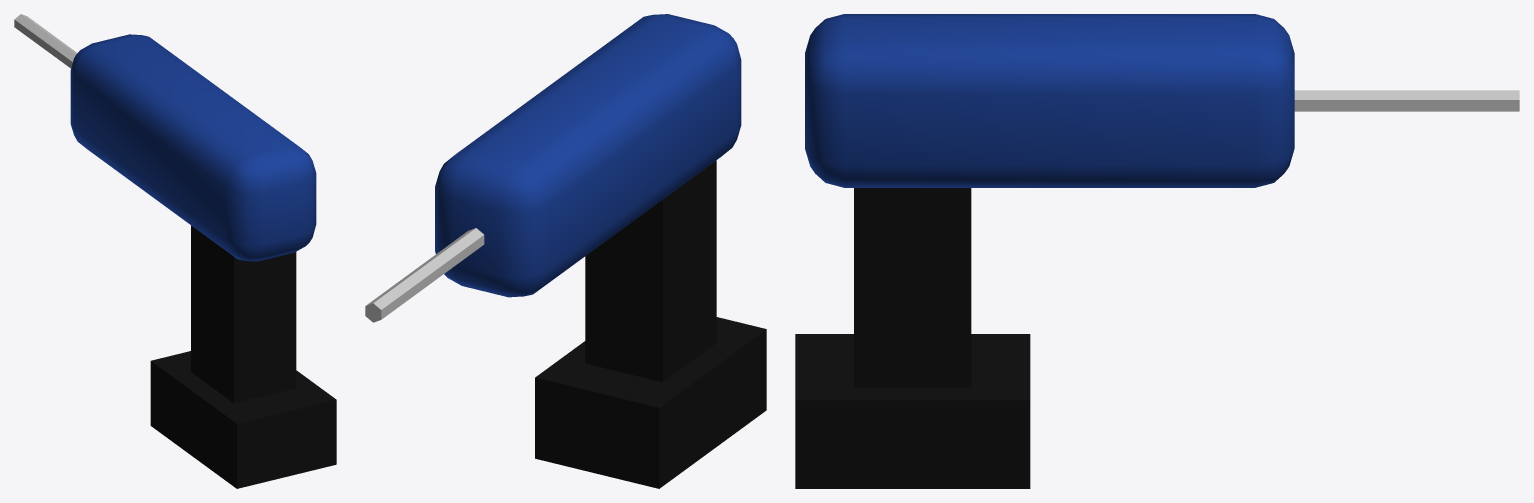
Rendered from plant.tool.drill.glb.
3 views of the same model, side by side, from view 1: azimuth 30°, elevation 25°; view 2: azimuth 150°, elevation 25°; view 3: azimuth 270°, elevation 25° (orthographic). The views are drawn at different scales.
Visible parts, largest first — view 1: main__plastic_blue, main__plastic_black, main__steel_stainless; view 2: main__plastic_blue, main__plastic_black, main__steel_stainless; view 3: main__plastic_blue, main__plastic_black, main__steel_stainless.
Part boxes in pixels (x1,y1,x2,y2): main__plastic_blue: (70, 34, 316, 261); main__plastic_black: (150, 225, 336, 488); main__steel_stainless: (14, 14, 77, 68); main__plastic_blue: (435, 14, 741, 297); main__plastic_black: (535, 160, 766, 488); main__steel_stainless: (365, 228, 484, 322); main__plastic_blue: (805, 14, 1294, 187); main__plastic_black: (795, 188, 1030, 488); main__steel_stainless: (1294, 90, 1519, 111).
Size of the model in its own units: 0.08 by 0.24 by 0.37.
